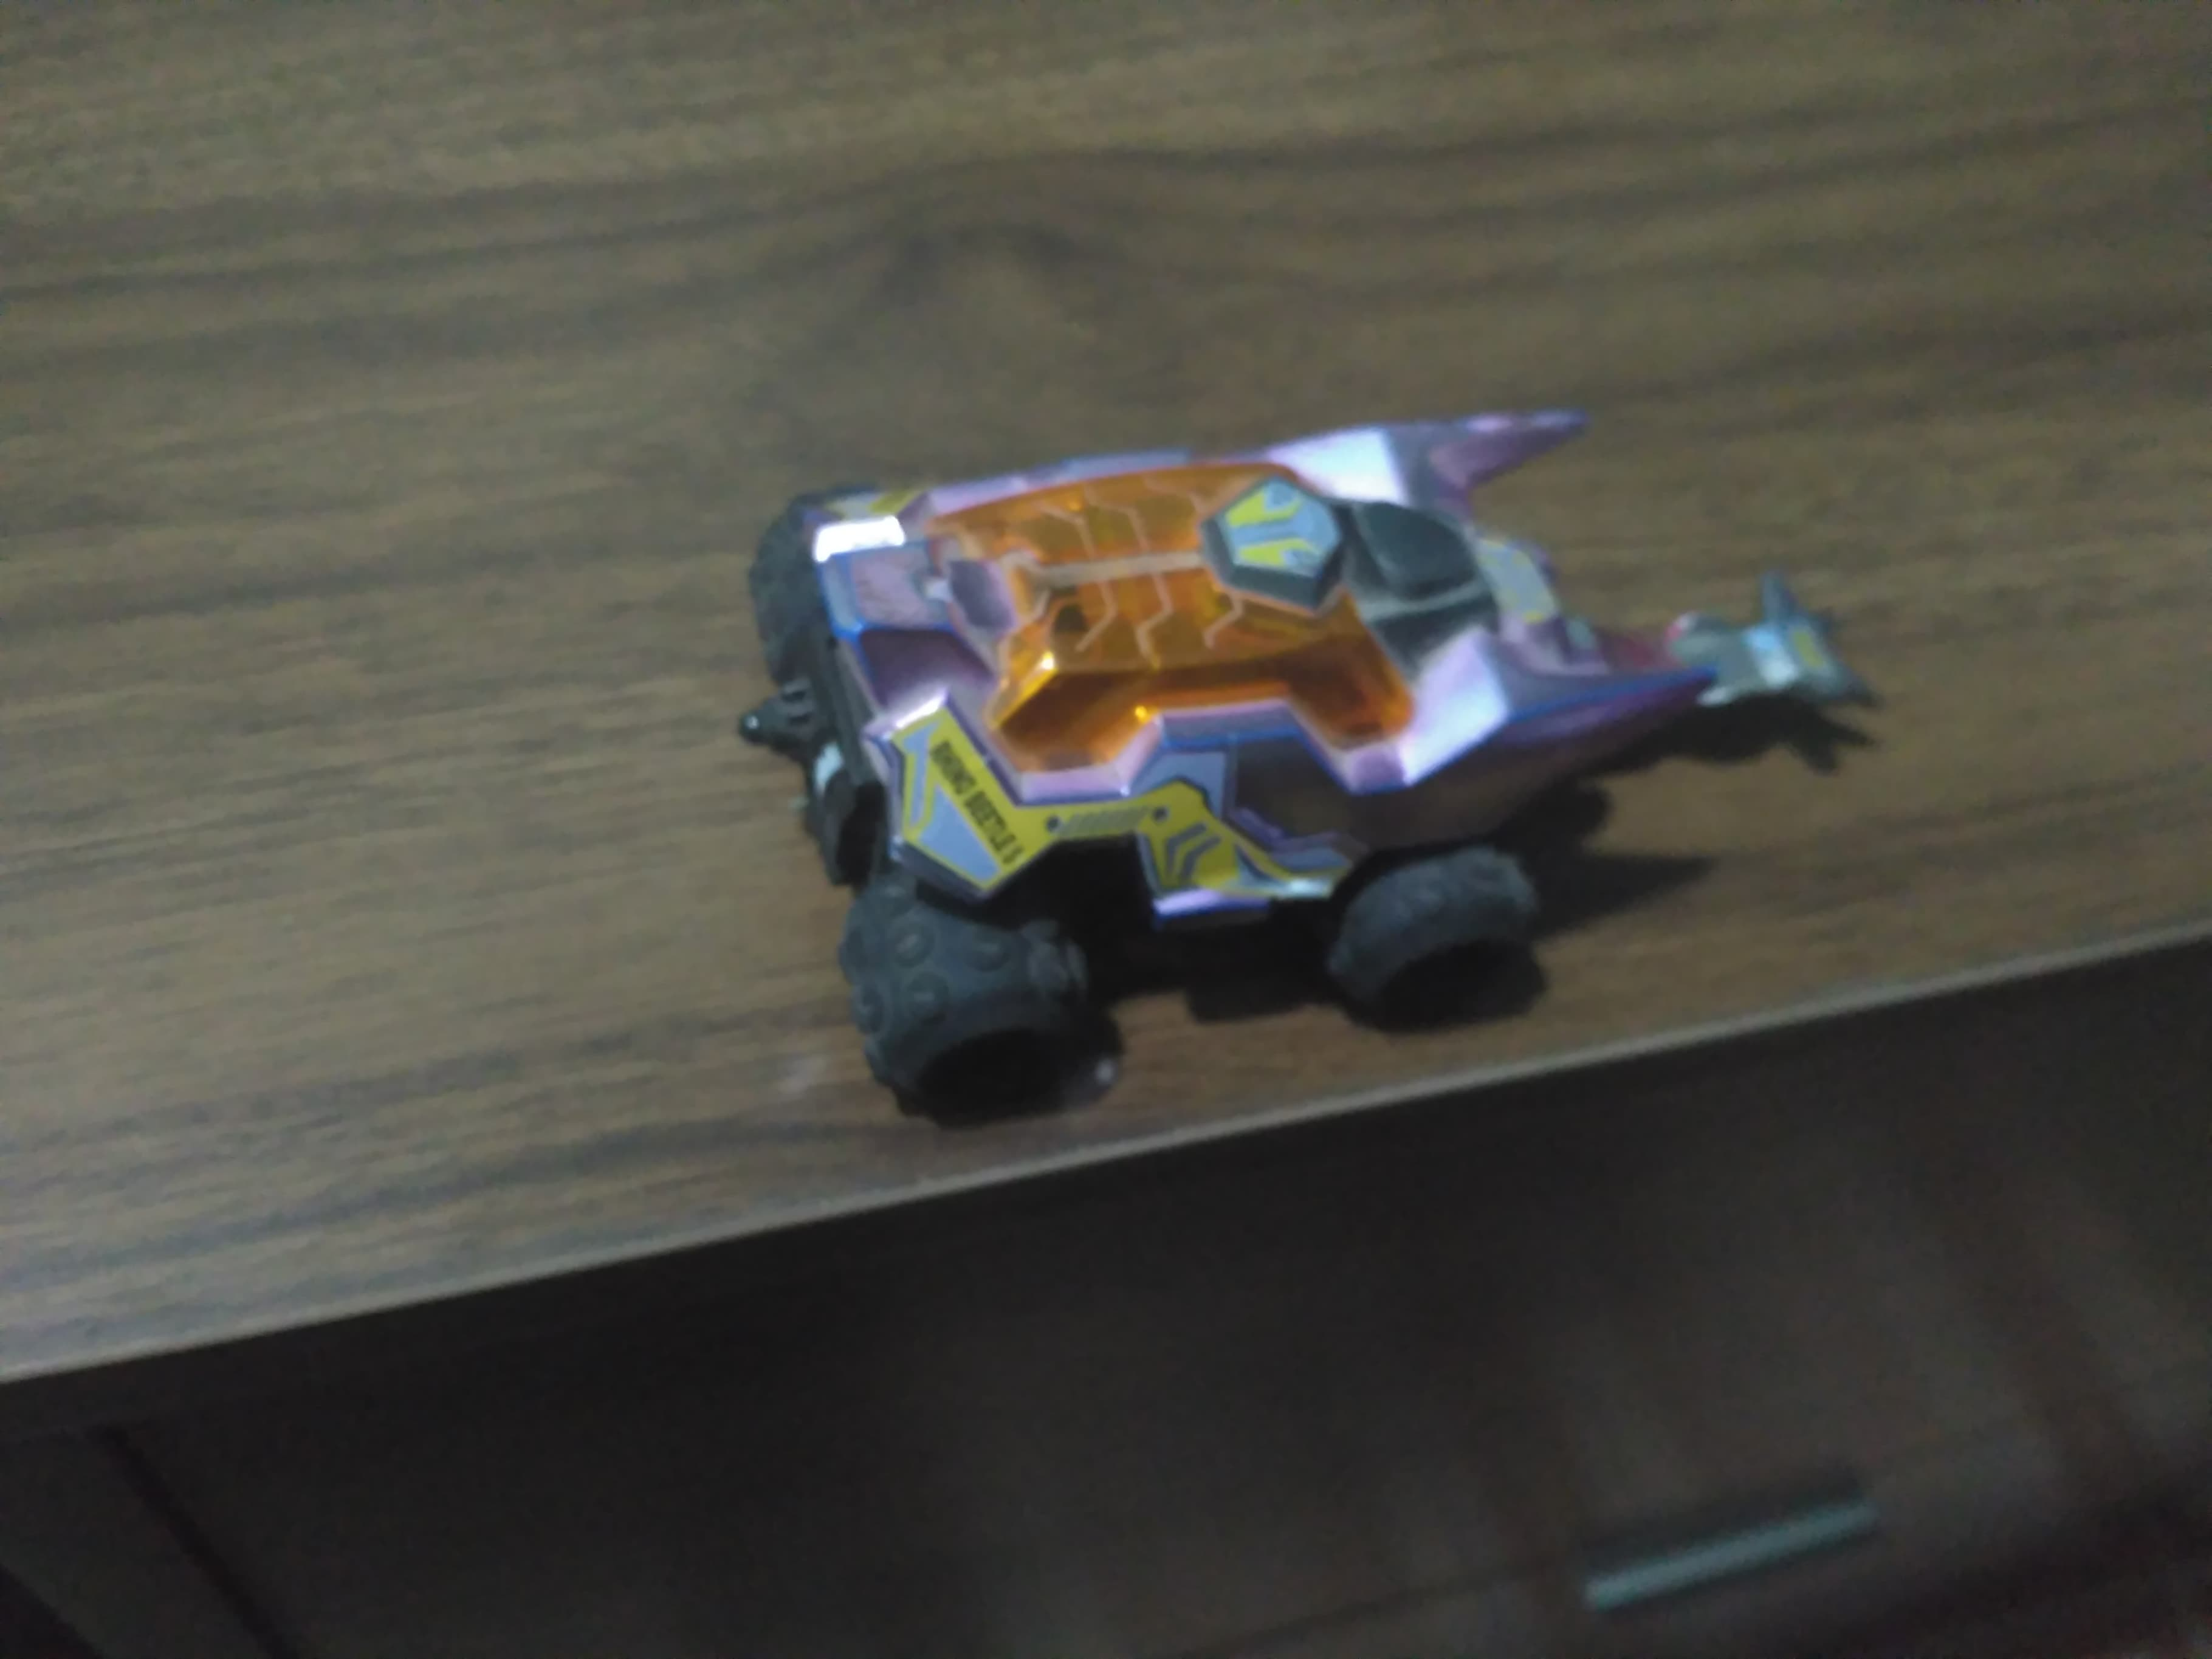rhino: (716, 397, 1895, 1126)
